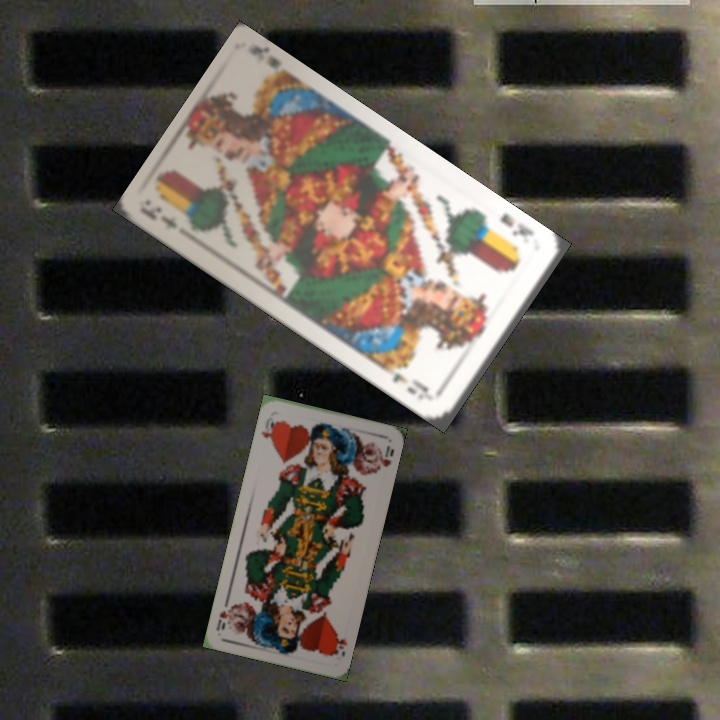EK: (496, 209, 537, 240), (140, 202, 180, 231)
HO: (257, 417, 280, 446), (328, 630, 350, 659)
